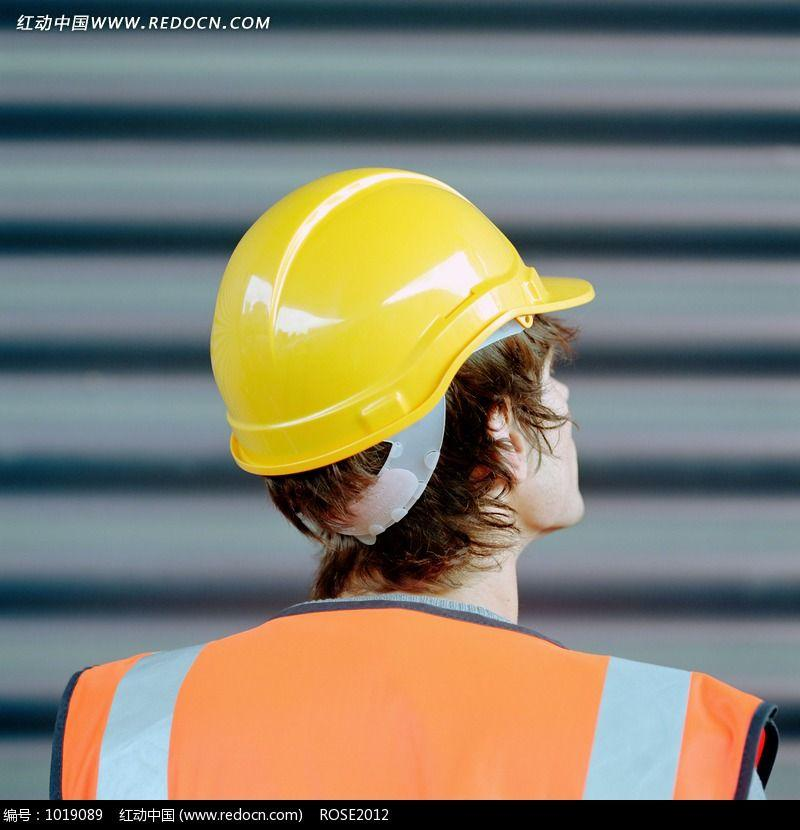helmet: (207, 160, 601, 478)
